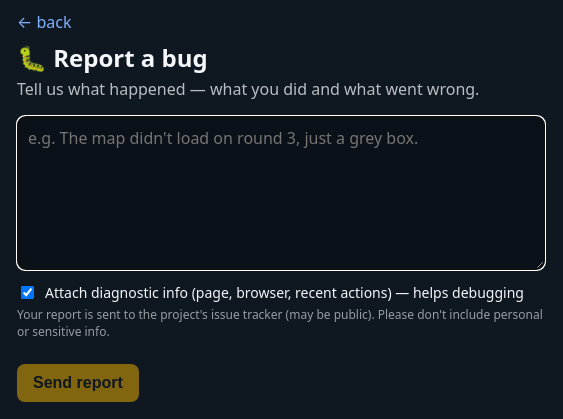
BugReport — Turnstile reset wiring › does NOT reset the token on a successful send
The width and height of the screenshot is (563, 419).
In the text box: [281, 193] box [17,116,545,270], type "the map went grey"
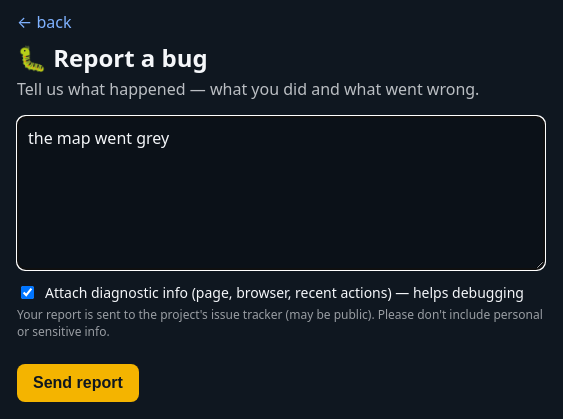
Click the button "Send report": [78, 383] box [17,364,139,402]
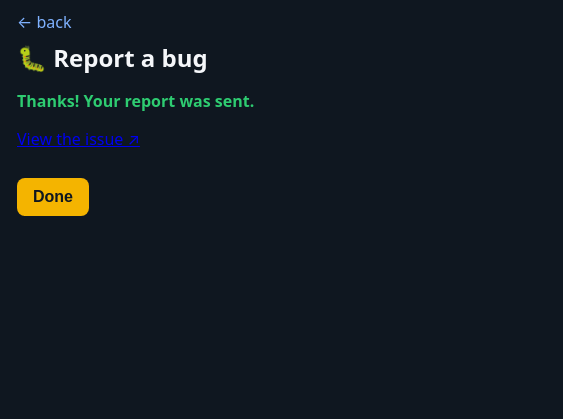
Expected: the text "Thanks! Your report was sent." is shown, [17,90,254,112]
